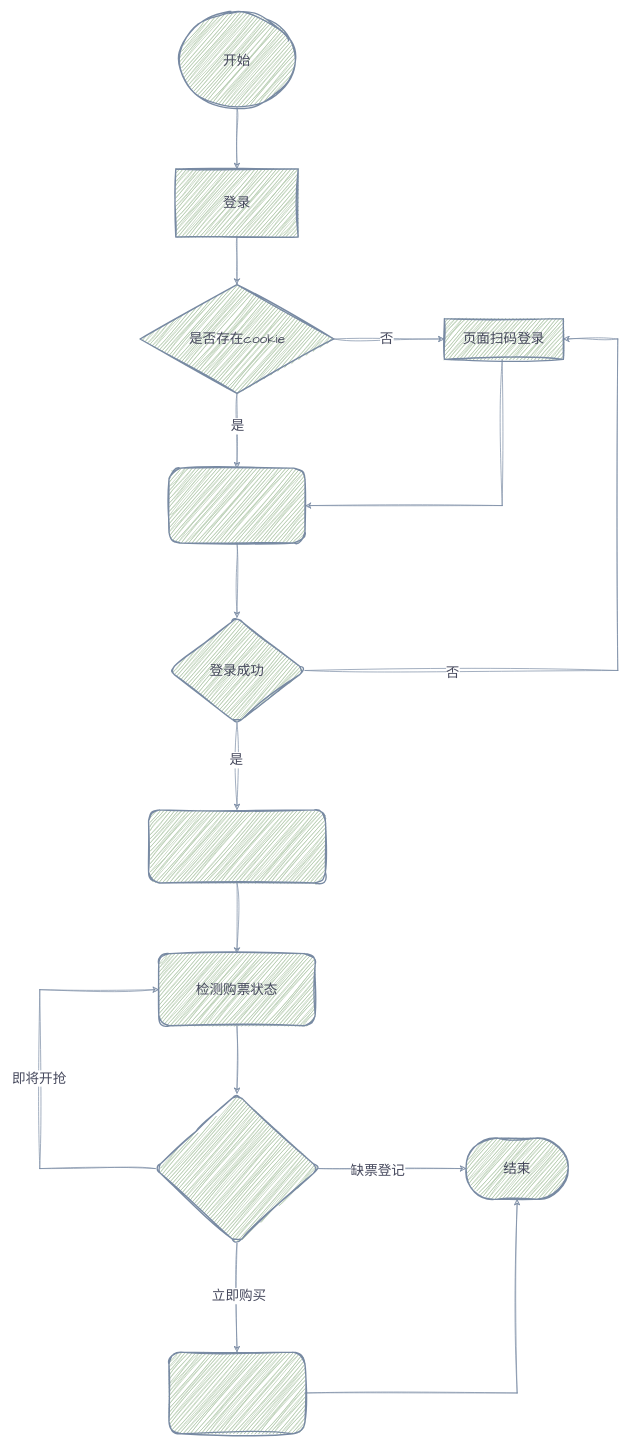
This 635x1446 diagram has some shape labels left out. The centre of each missing label's shape, as x and y in pixels:
"加载购票信息" goes at (x=237, y=846).
"提交订单" goes at (x=236, y=1392).
"登录验证" goes at (x=236, y=505).
"目标票可抢购" goes at (x=236, y=1168).
